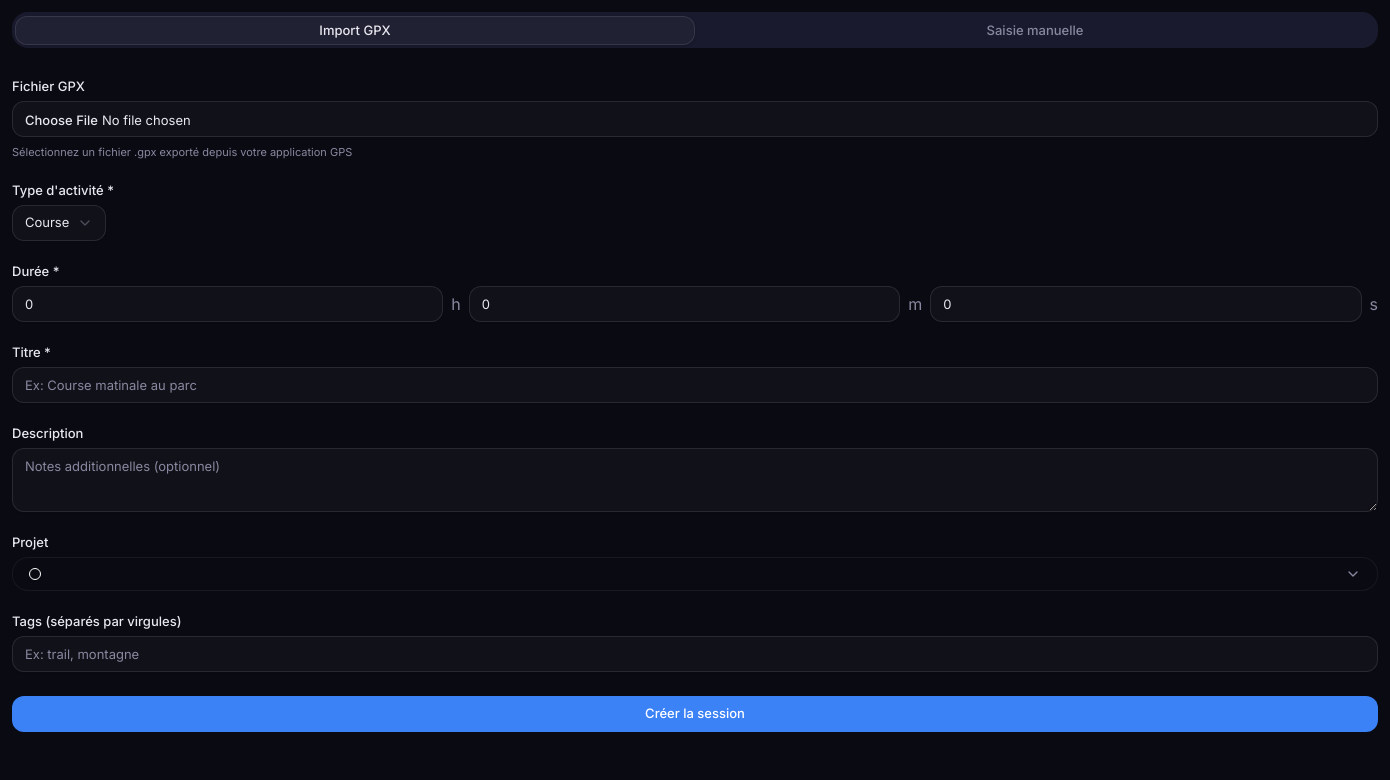
Test: CardioSessionForm › affiche une erreur de validation si le titre est vide et soumis
This screenshot has width=1390, height=780.
Click the button "Créer la session" at coordinates (695, 714), box [12,696,1378,732]
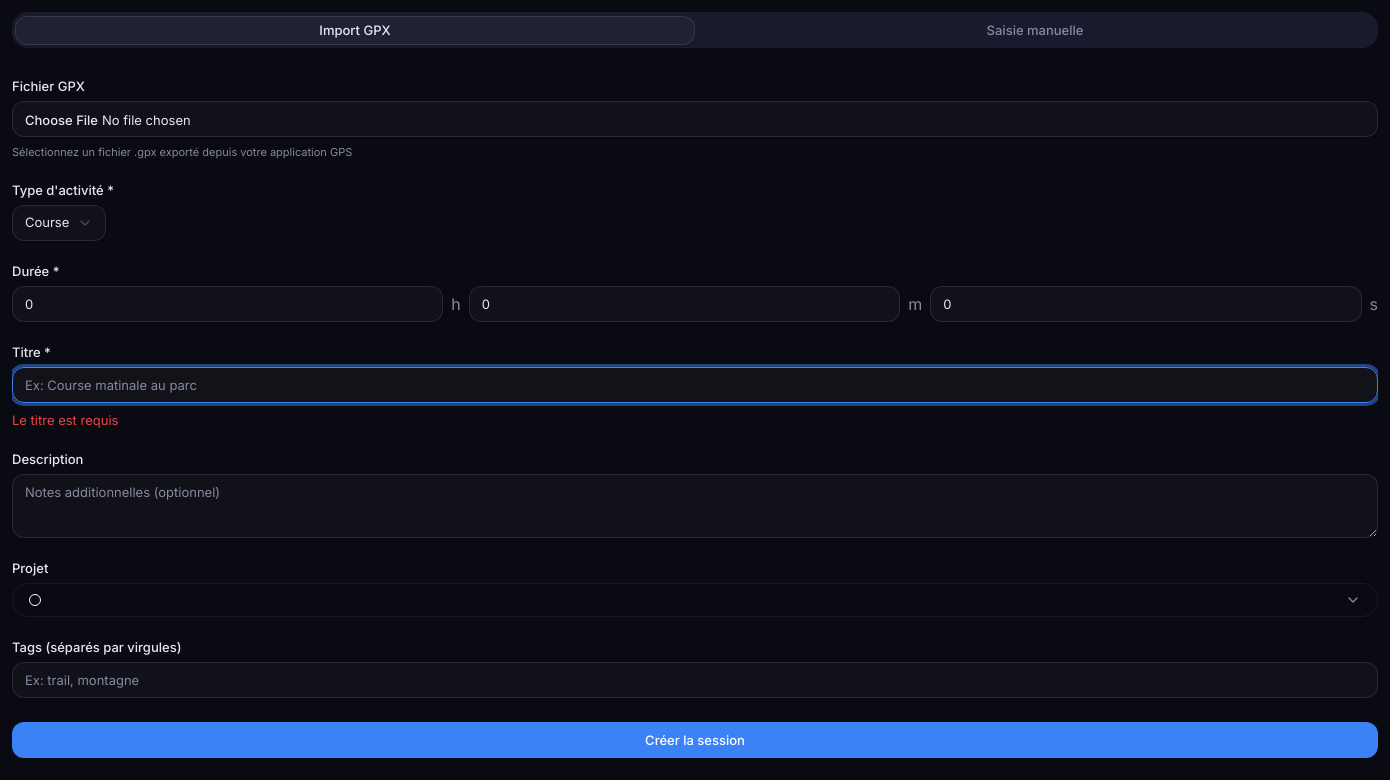
Expected: the text "Le titre est requis" is shown, [12,412,118,428]
